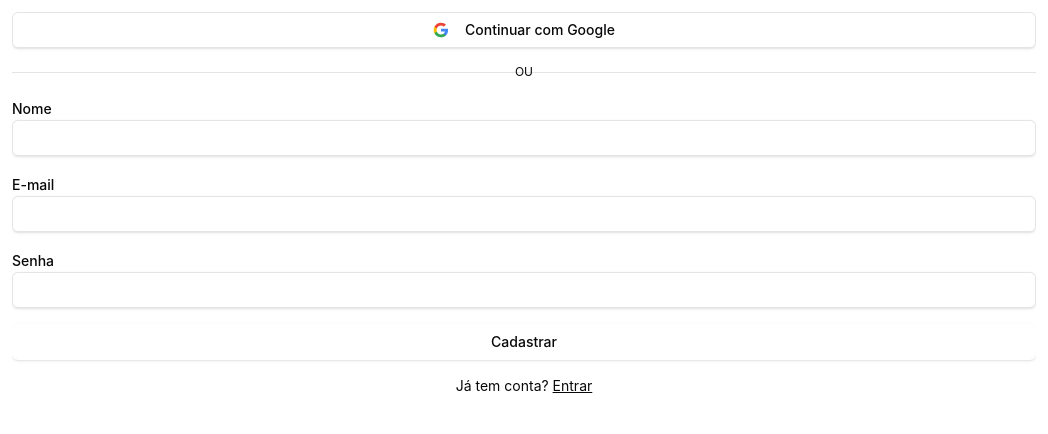
Test case: RegisterForm › senha fraca exibe erros de validação Zod
In the field labelled "Nome": (524,138) top-left (12, 120), bottom-right (1036, 156), type "Jo"
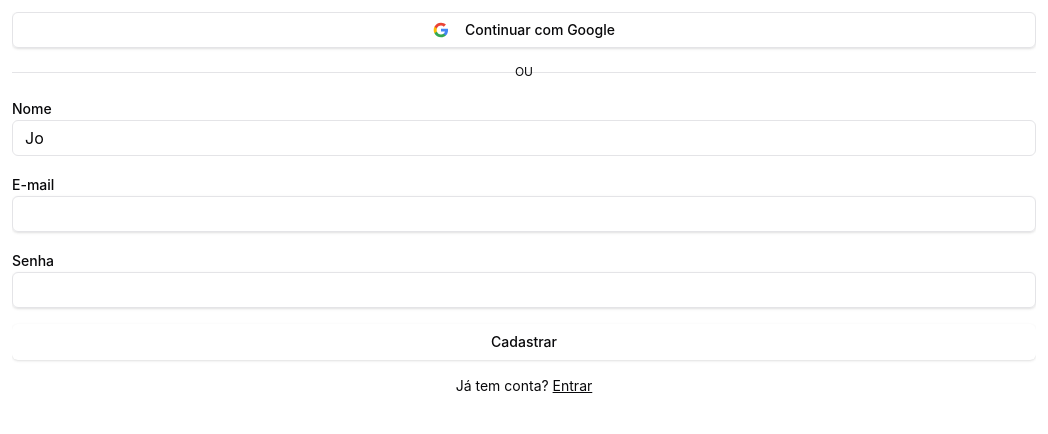
In the field labelled "E-mail": (524,214) top-left (12, 196), bottom-right (1036, 232), type "joao@example.com"
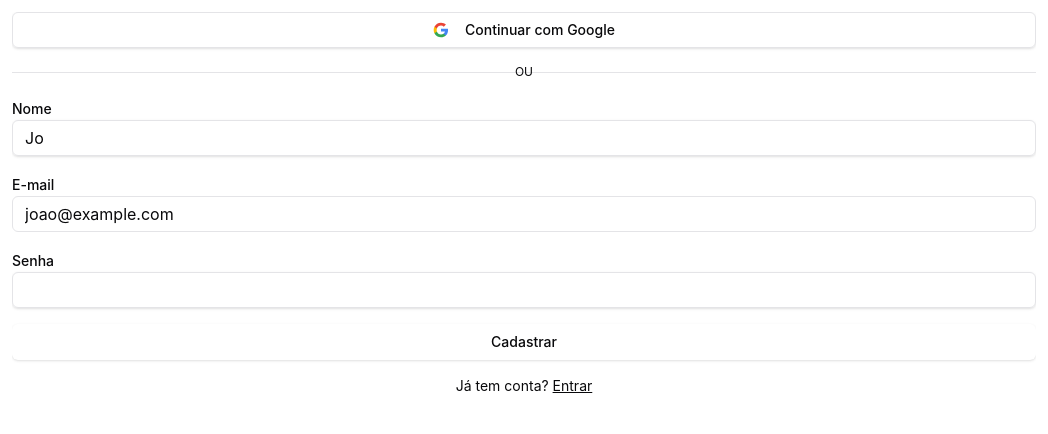
In the password field labelled "Senha": (524,290) top-left (12, 272), bottom-right (1036, 308), type "semmaius1"
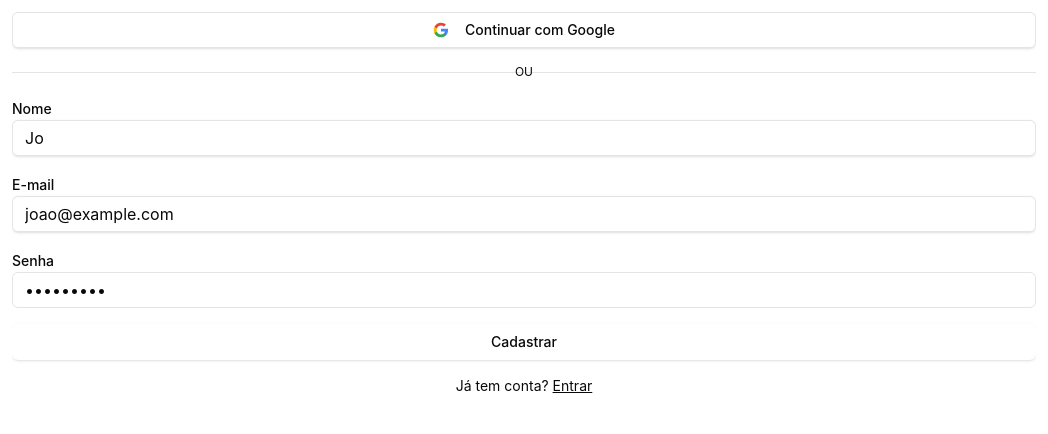
Click the button "Cadastrar": (524,342) top-left (12, 324), bottom-right (1036, 360)
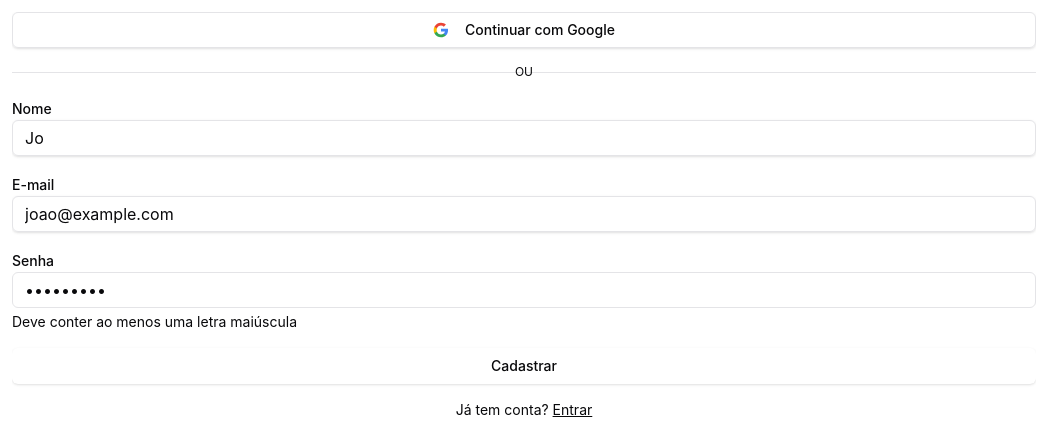
expect the text "Deve conter ao menos uma letra maiúscula" is shown: met, box top-left (12, 313), bottom-right (297, 330)
